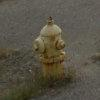Hydrant: (24, 10, 70, 100)
